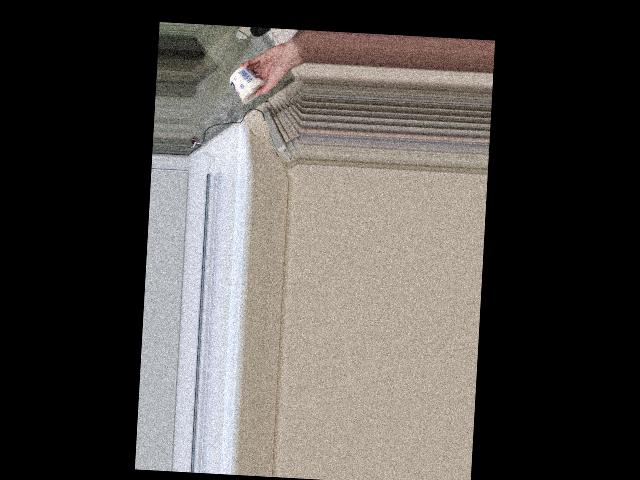cotage: (228, 63, 267, 105)
